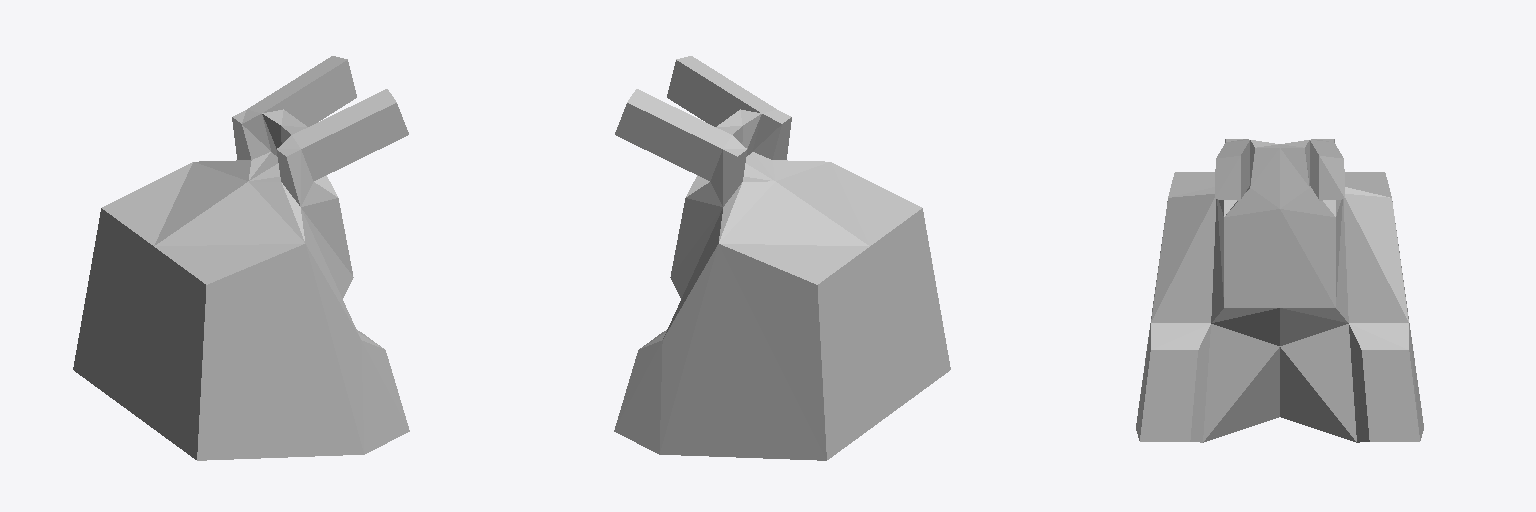
Rendered from construct_barricade.obj.
3 views of the same model, side by side, from view 1: azimuth 30°, elevation 25°; view 2: azimuth 150°, elevation 25°; view 3: azimuth 270°, elevation 25° (orthographic).
Visible parts, largest first — view 1: Cube.001_Cube.003; view 2: Cube.001_Cube.003; view 3: Cube.001_Cube.003.
Boxes of the visible parts, <box> form: Cube.001_Cube.003: <box>73,56,409,460</box>; Cube.001_Cube.003: <box>614,56,950,460</box>; Cube.001_Cube.003: <box>1136,139,1423,442</box>.
Bounding box in the file's own units: 1.58 × 1.93 × 1.63.